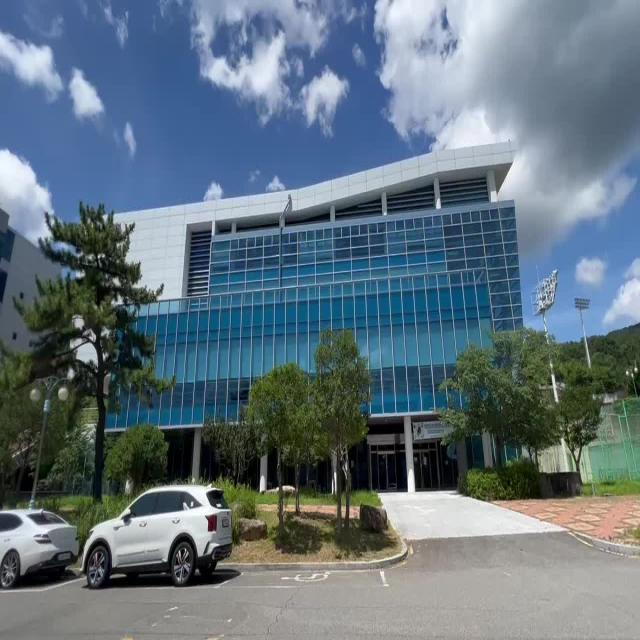building: (147, 115, 527, 362)
